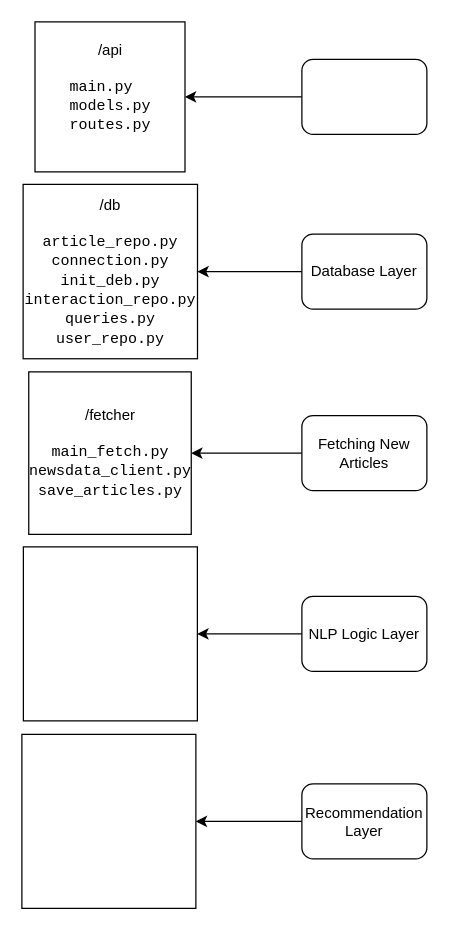
The diagram is 449 pixels wide and 931 high, and some of its shapes have lost their labels. Here are the shapes that lost their labels. From the top down, the centre of each, then its label:
At point 364,96: "API Endpoints".
At point 109,633: "/nlp liked_title.py similarity.py".
At point 108,820: "/recommender recommender.py scorer.pt".
